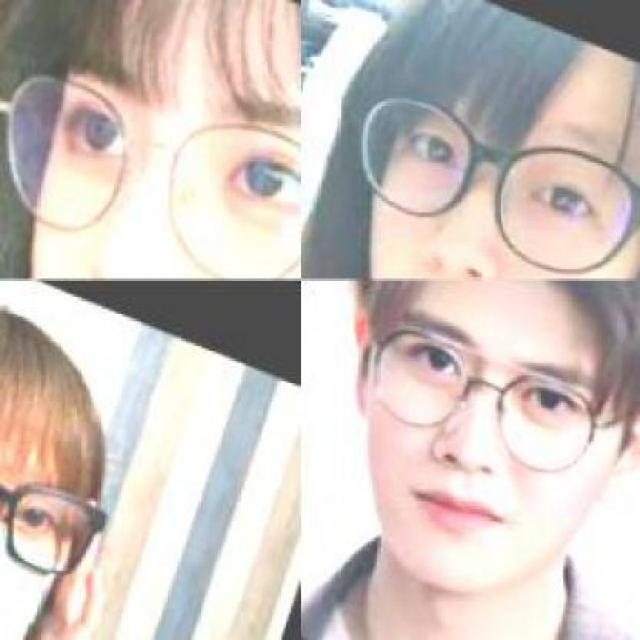glasses: (0, 66, 298, 276), (358, 68, 638, 277), (365, 308, 633, 472), (0, 412, 114, 596)
